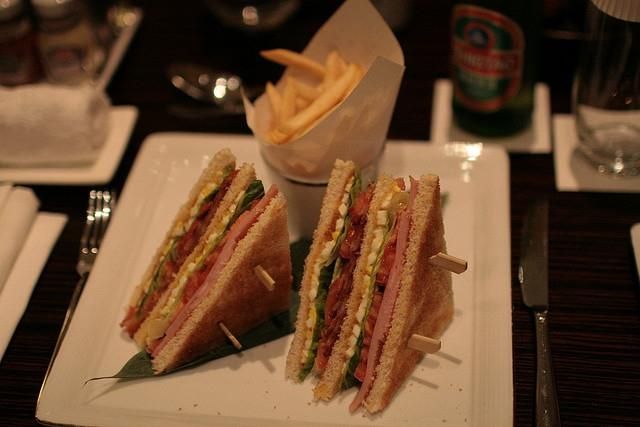lettuce: (82, 237, 314, 390), (163, 179, 264, 319), (340, 192, 410, 390), (299, 257, 338, 382)
tomato: (183, 245, 224, 306), (176, 201, 214, 260), (324, 278, 346, 326), (314, 336, 340, 371), (376, 244, 396, 287), (349, 191, 368, 225), (183, 229, 202, 255), (362, 315, 376, 348), (121, 306, 135, 327)
